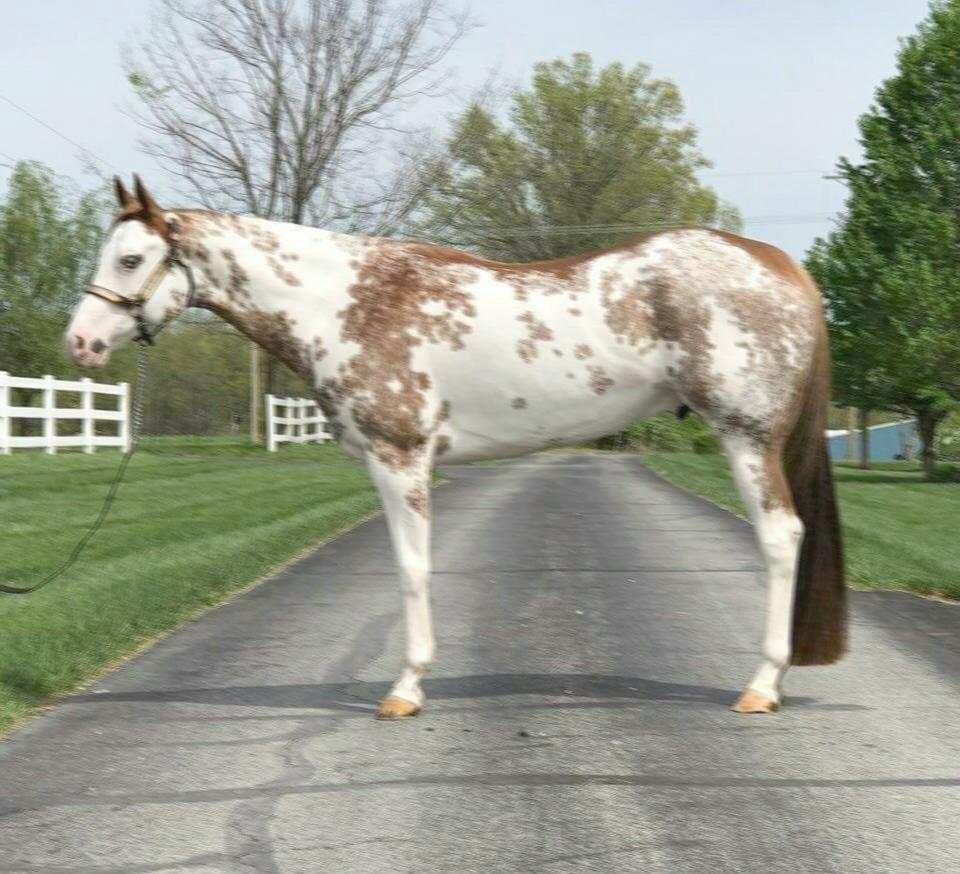horse: (62, 169, 852, 720)
